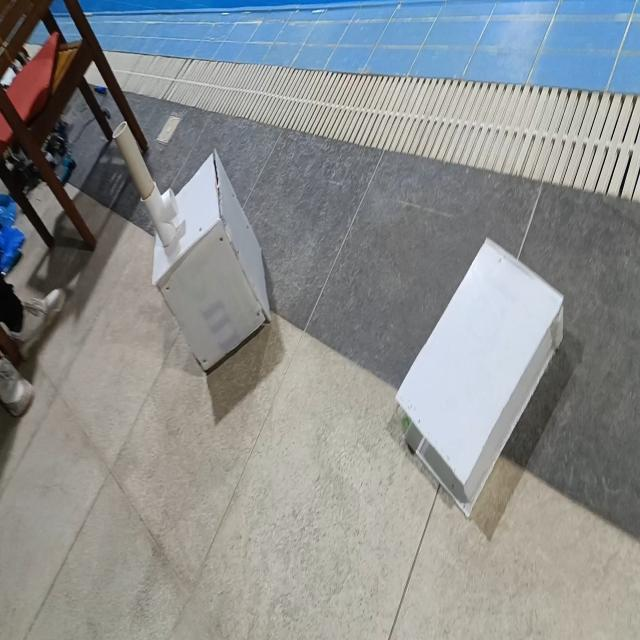Cube: (151, 146, 271, 373)
Cuboid: (394, 234, 565, 518)
